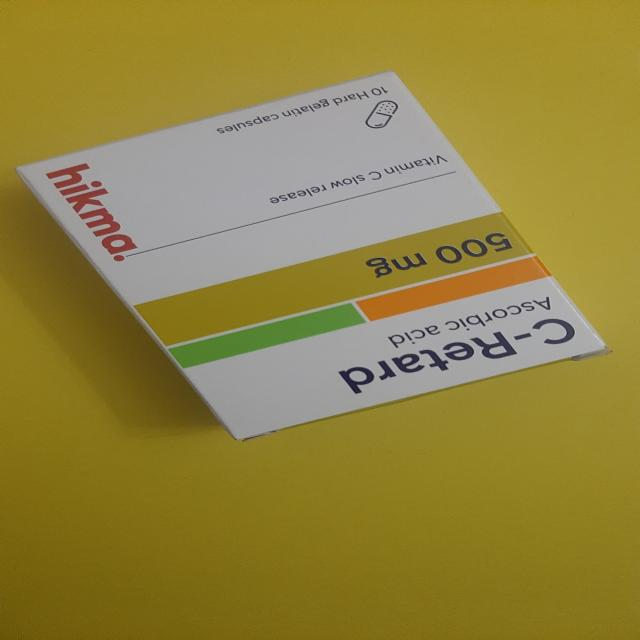C-Retard: (12, 76, 602, 450)
